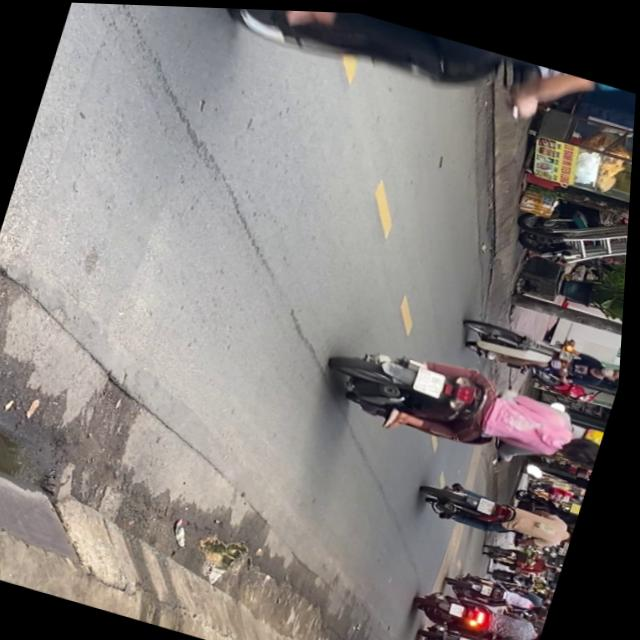helmet: (575, 417, 609, 448)
licenseplate: (318, 323, 620, 482), (457, 306, 626, 394), (420, 468, 585, 552)
motorcyclist: (560, 426, 606, 462), (601, 357, 624, 379)
nohelmet: (417, 363, 451, 394), (481, 493, 501, 510)
